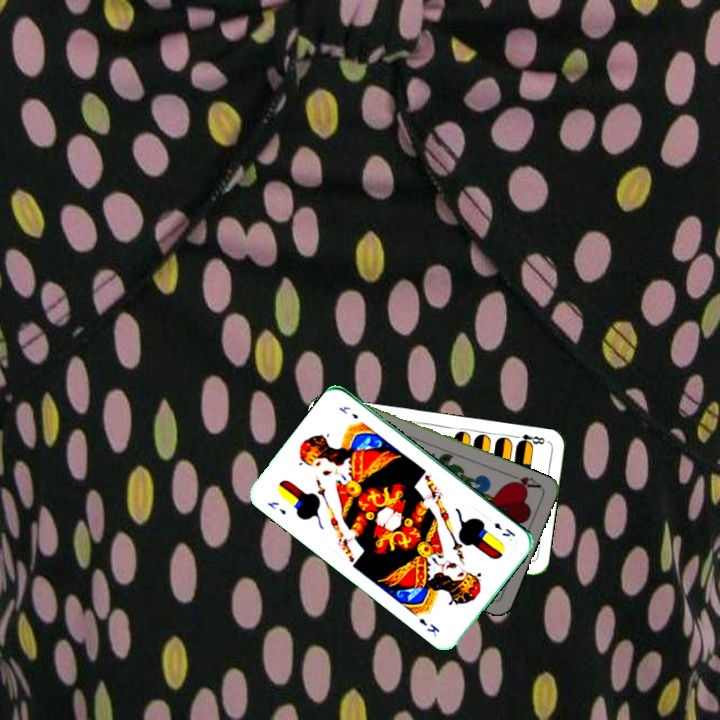E8: (510, 430, 550, 449)
EK: (490, 518, 518, 539), (263, 497, 289, 517)
HA: (505, 470, 544, 492)
